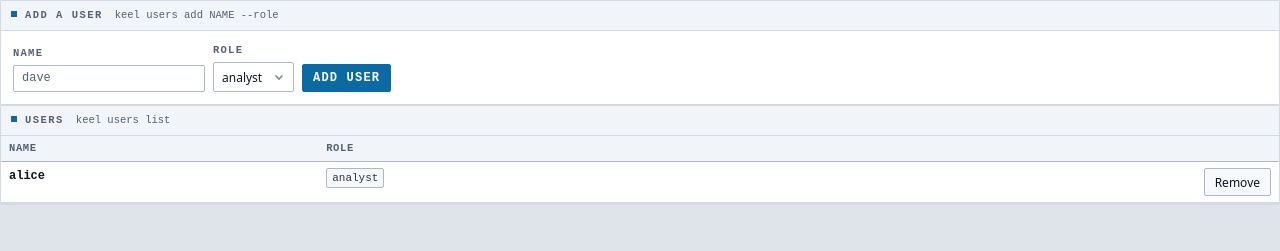
Test: UsersPanel › removes a user after an inline confirmation
The width and height of the screenshot is (1280, 251).
Step 1. Click the button with test id "user-remove" → (1237, 182), box [1204,168,1271,196]
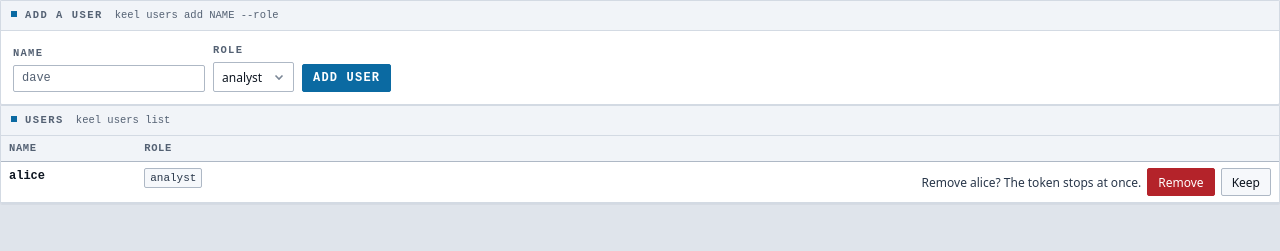
Step 2. Click the button with test id "user-remove-confirm" → (1181, 182), box [1147,168,1215,196]
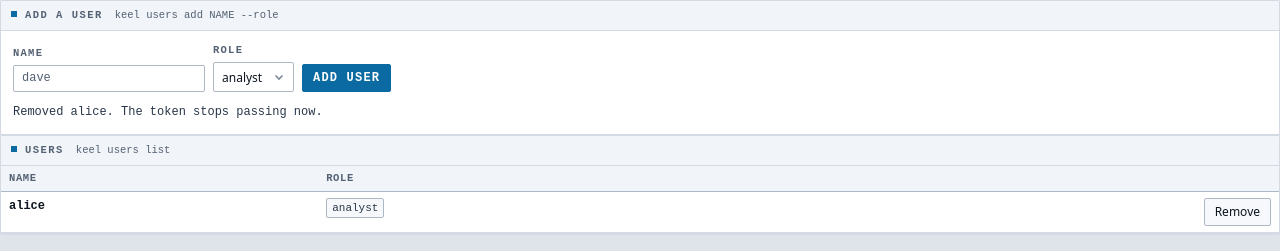
Expected: the message with test id "user-notice" shows "Removed alice.", [13,105,323,119]
